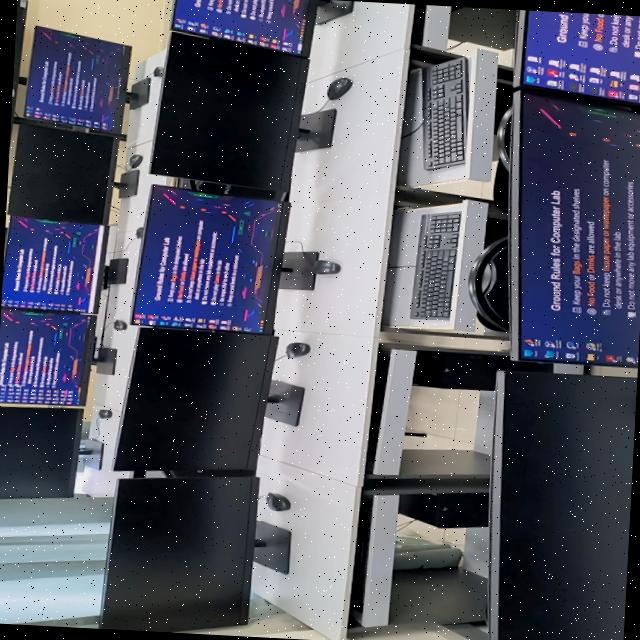Chair: (467, 238, 509, 332), (495, 106, 511, 172)
Cpu: (413, 352, 551, 391), (398, 493, 487, 529), (448, 6, 515, 51)
Keyboard: (409, 212, 458, 320), (421, 58, 466, 171), (398, 493, 487, 528)
Monitor: (489, 372, 637, 640), (509, 91, 640, 367), (98, 477, 288, 632), (149, 32, 307, 200), (114, 328, 277, 476), (129, 186, 286, 333), (7, 121, 117, 225), (23, 27, 129, 133), (521, 10, 640, 104), (0, 217, 107, 314), (0, 309, 94, 406), (172, 0, 316, 56), (0, 406, 81, 499)
Mouse: (326, 78, 352, 100), (265, 493, 289, 511), (284, 342, 309, 359), (313, 260, 339, 274), (129, 155, 142, 168), (110, 320, 126, 330), (148, 68, 162, 78), (98, 410, 111, 418), (135, 228, 142, 239)
